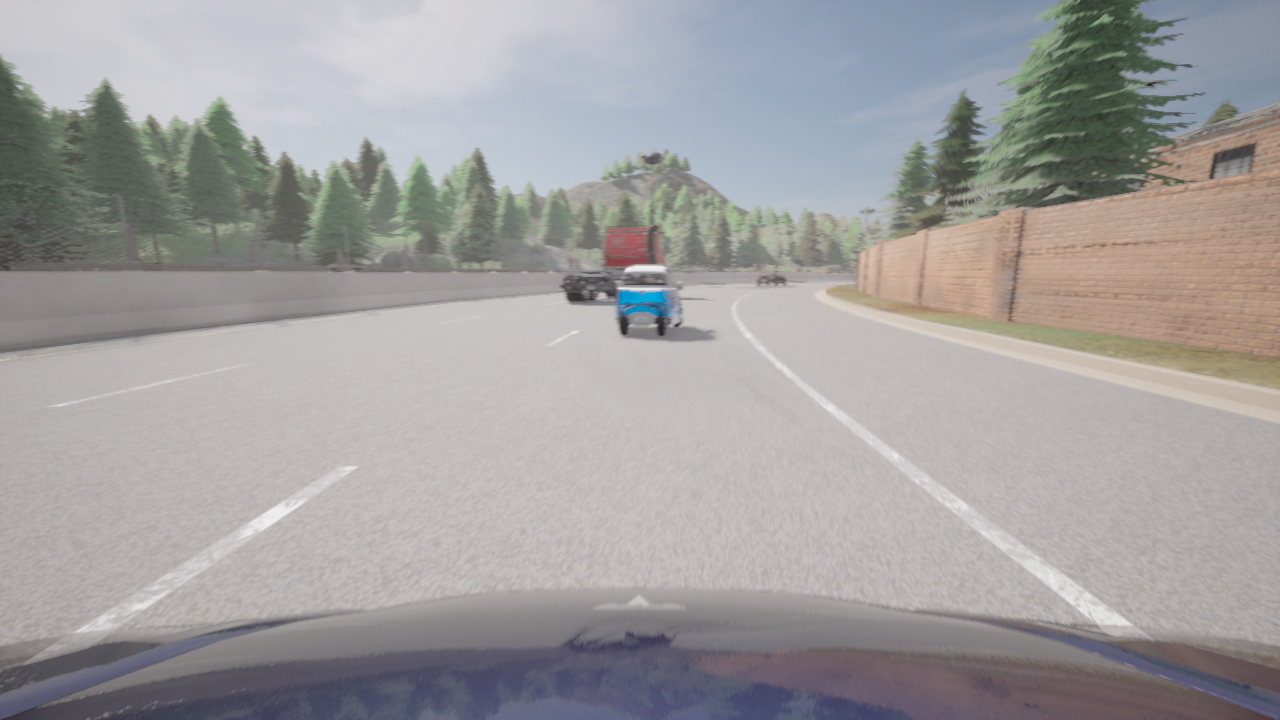cyclist: (0, 588, 1279, 719), (559, 224, 670, 301), (616, 264, 683, 336), (756, 270, 787, 286)
